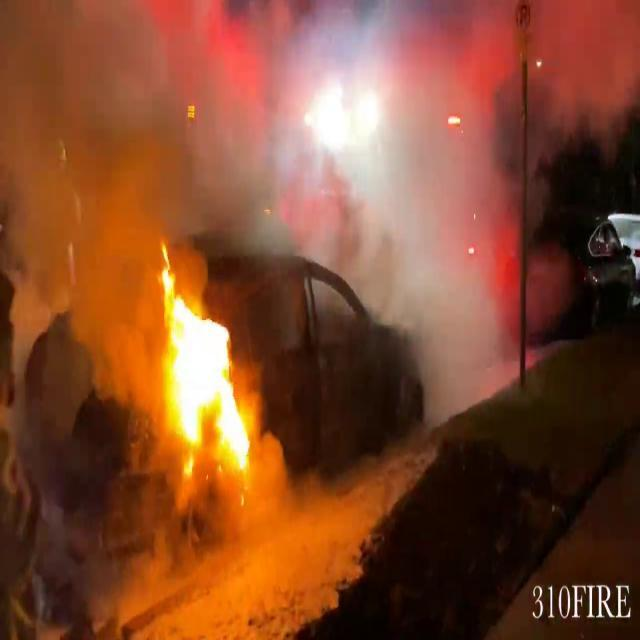Fire: (145, 243, 263, 484)
Smoke: (387, 0, 640, 394), (0, 1, 227, 360)
